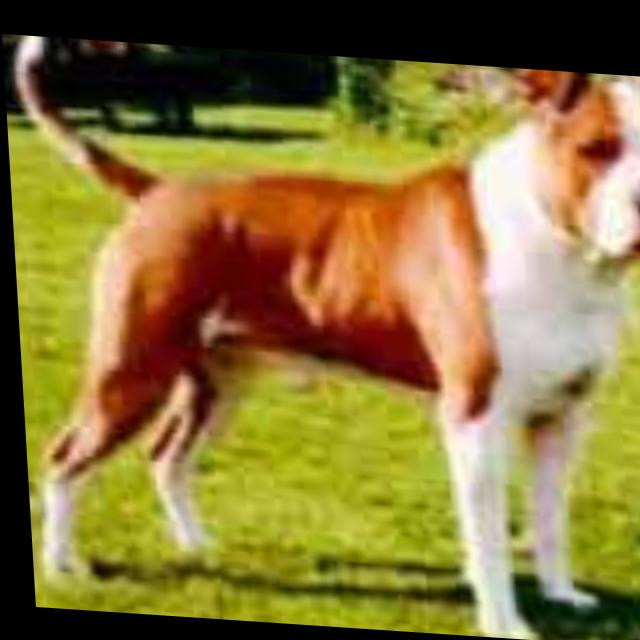staffford: (11, 35, 640, 640)
